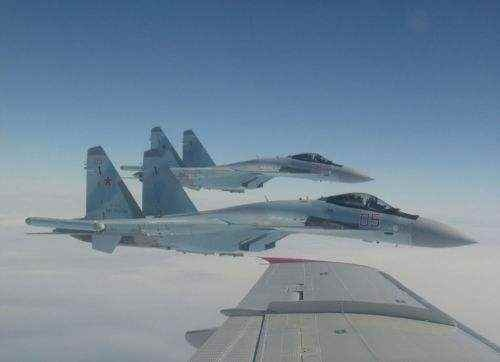airplane: (23, 145, 475, 254), (111, 120, 375, 198)
